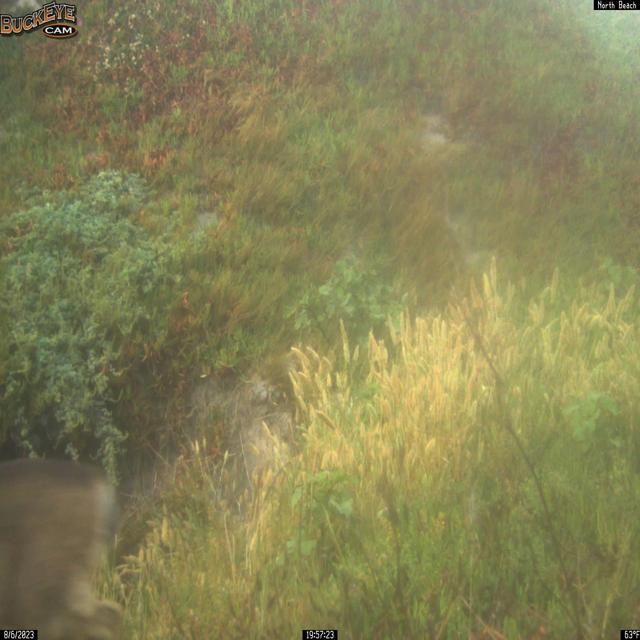deer: (0, 456, 129, 640)
